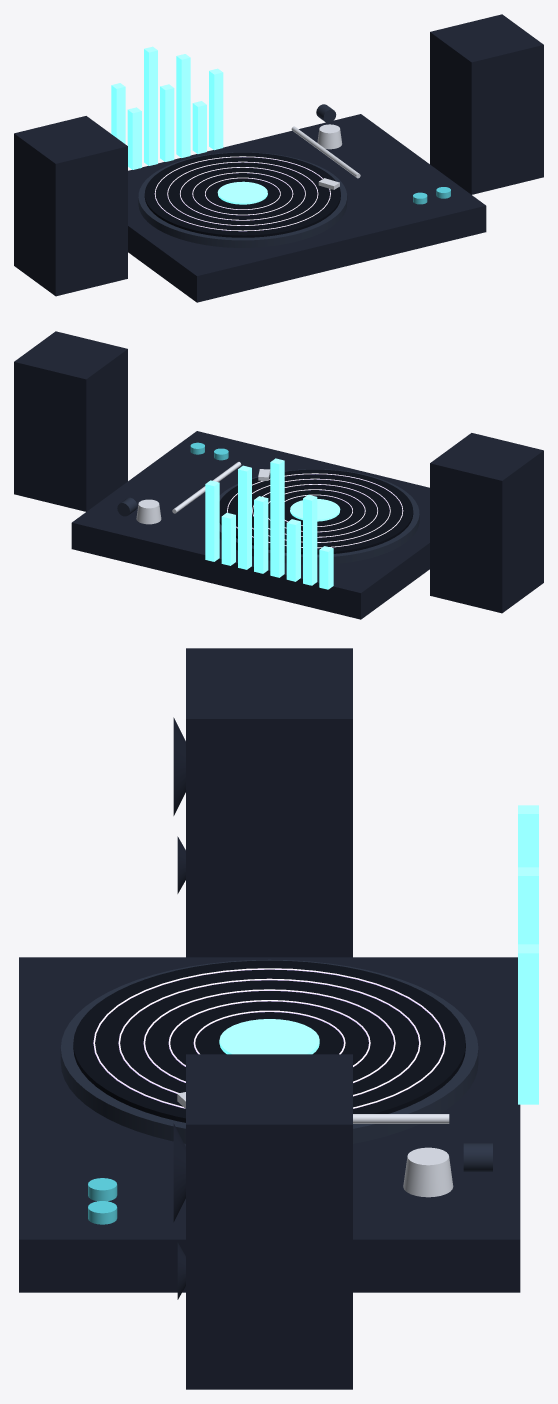
Rendered from toca-discos-harle-player.glb.
The picture shows the model from 3 angles, top to bottom: view 1: azimuth 30°, elevation 25°; view 2: azimuth 150°, elevation 25°; view 3: azimuth 270°, elevation 25°; orthographic projection. The views are drawn at different scales.
Parts seen in each view (by area): view 1: Base, Caixa de som esquerda, Caixa de som direita, Disco, Equalizador, Prato, Sulcos, Braço, Selo; view 2: Base, Caixa de som esquerda, Caixa de som direita, Equalizador, Disco, Prato, Sulcos, Braço, Selo; view 3: Base, Caixa de som direita, Caixa de som esquerda, Disco, Prato, Equalizador, Sulcos, Braço, Selo, Botões, Contrapeso.
Boxes of the visible parts, x1,y1,x2,y2 form: Base: (128, 114, 486, 302); Caixa de som esquerda: (14, 116, 127, 296); Caixa de som direita: (430, 14, 543, 194); Disco: (144, 152, 340, 237); Equalizador: (111, 46, 223, 169); Prato: (138, 152, 347, 247); Sulcos: (154, 156, 330, 231); Braço: (291, 124, 360, 189); Selo: (217, 181, 267, 204); Base: (71, 431, 429, 619); Caixa de som esquerda: (430, 433, 543, 613); Caixa de som direita: (14, 331, 127, 511); Equalizador: (205, 458, 333, 589); Disco: (219, 469, 413, 554); Prato: (219, 469, 419, 564); Sulcos: (227, 473, 403, 548); Braço: (136, 462, 270, 524); Selo: (290, 499, 340, 521); Base: (19, 957, 520, 1292); Caixa de som direita: (173, 1054, 352, 1389); Caixa de som esquerda: (173, 648, 352, 957); Disco: (73, 960, 465, 1122); Prato: (60, 959, 478, 1143); Equalizador: (518, 805, 538, 1104); Sulcos: (93, 968, 445, 1108); Braço: (177, 1092, 453, 1197); Selo: (219, 1019, 319, 1054); Botões: (88, 1178, 117, 1224); Contrapeso: (463, 1143, 492, 1172).
Size of the model in its own units: 2.7 by 0.74 by 1.25.
